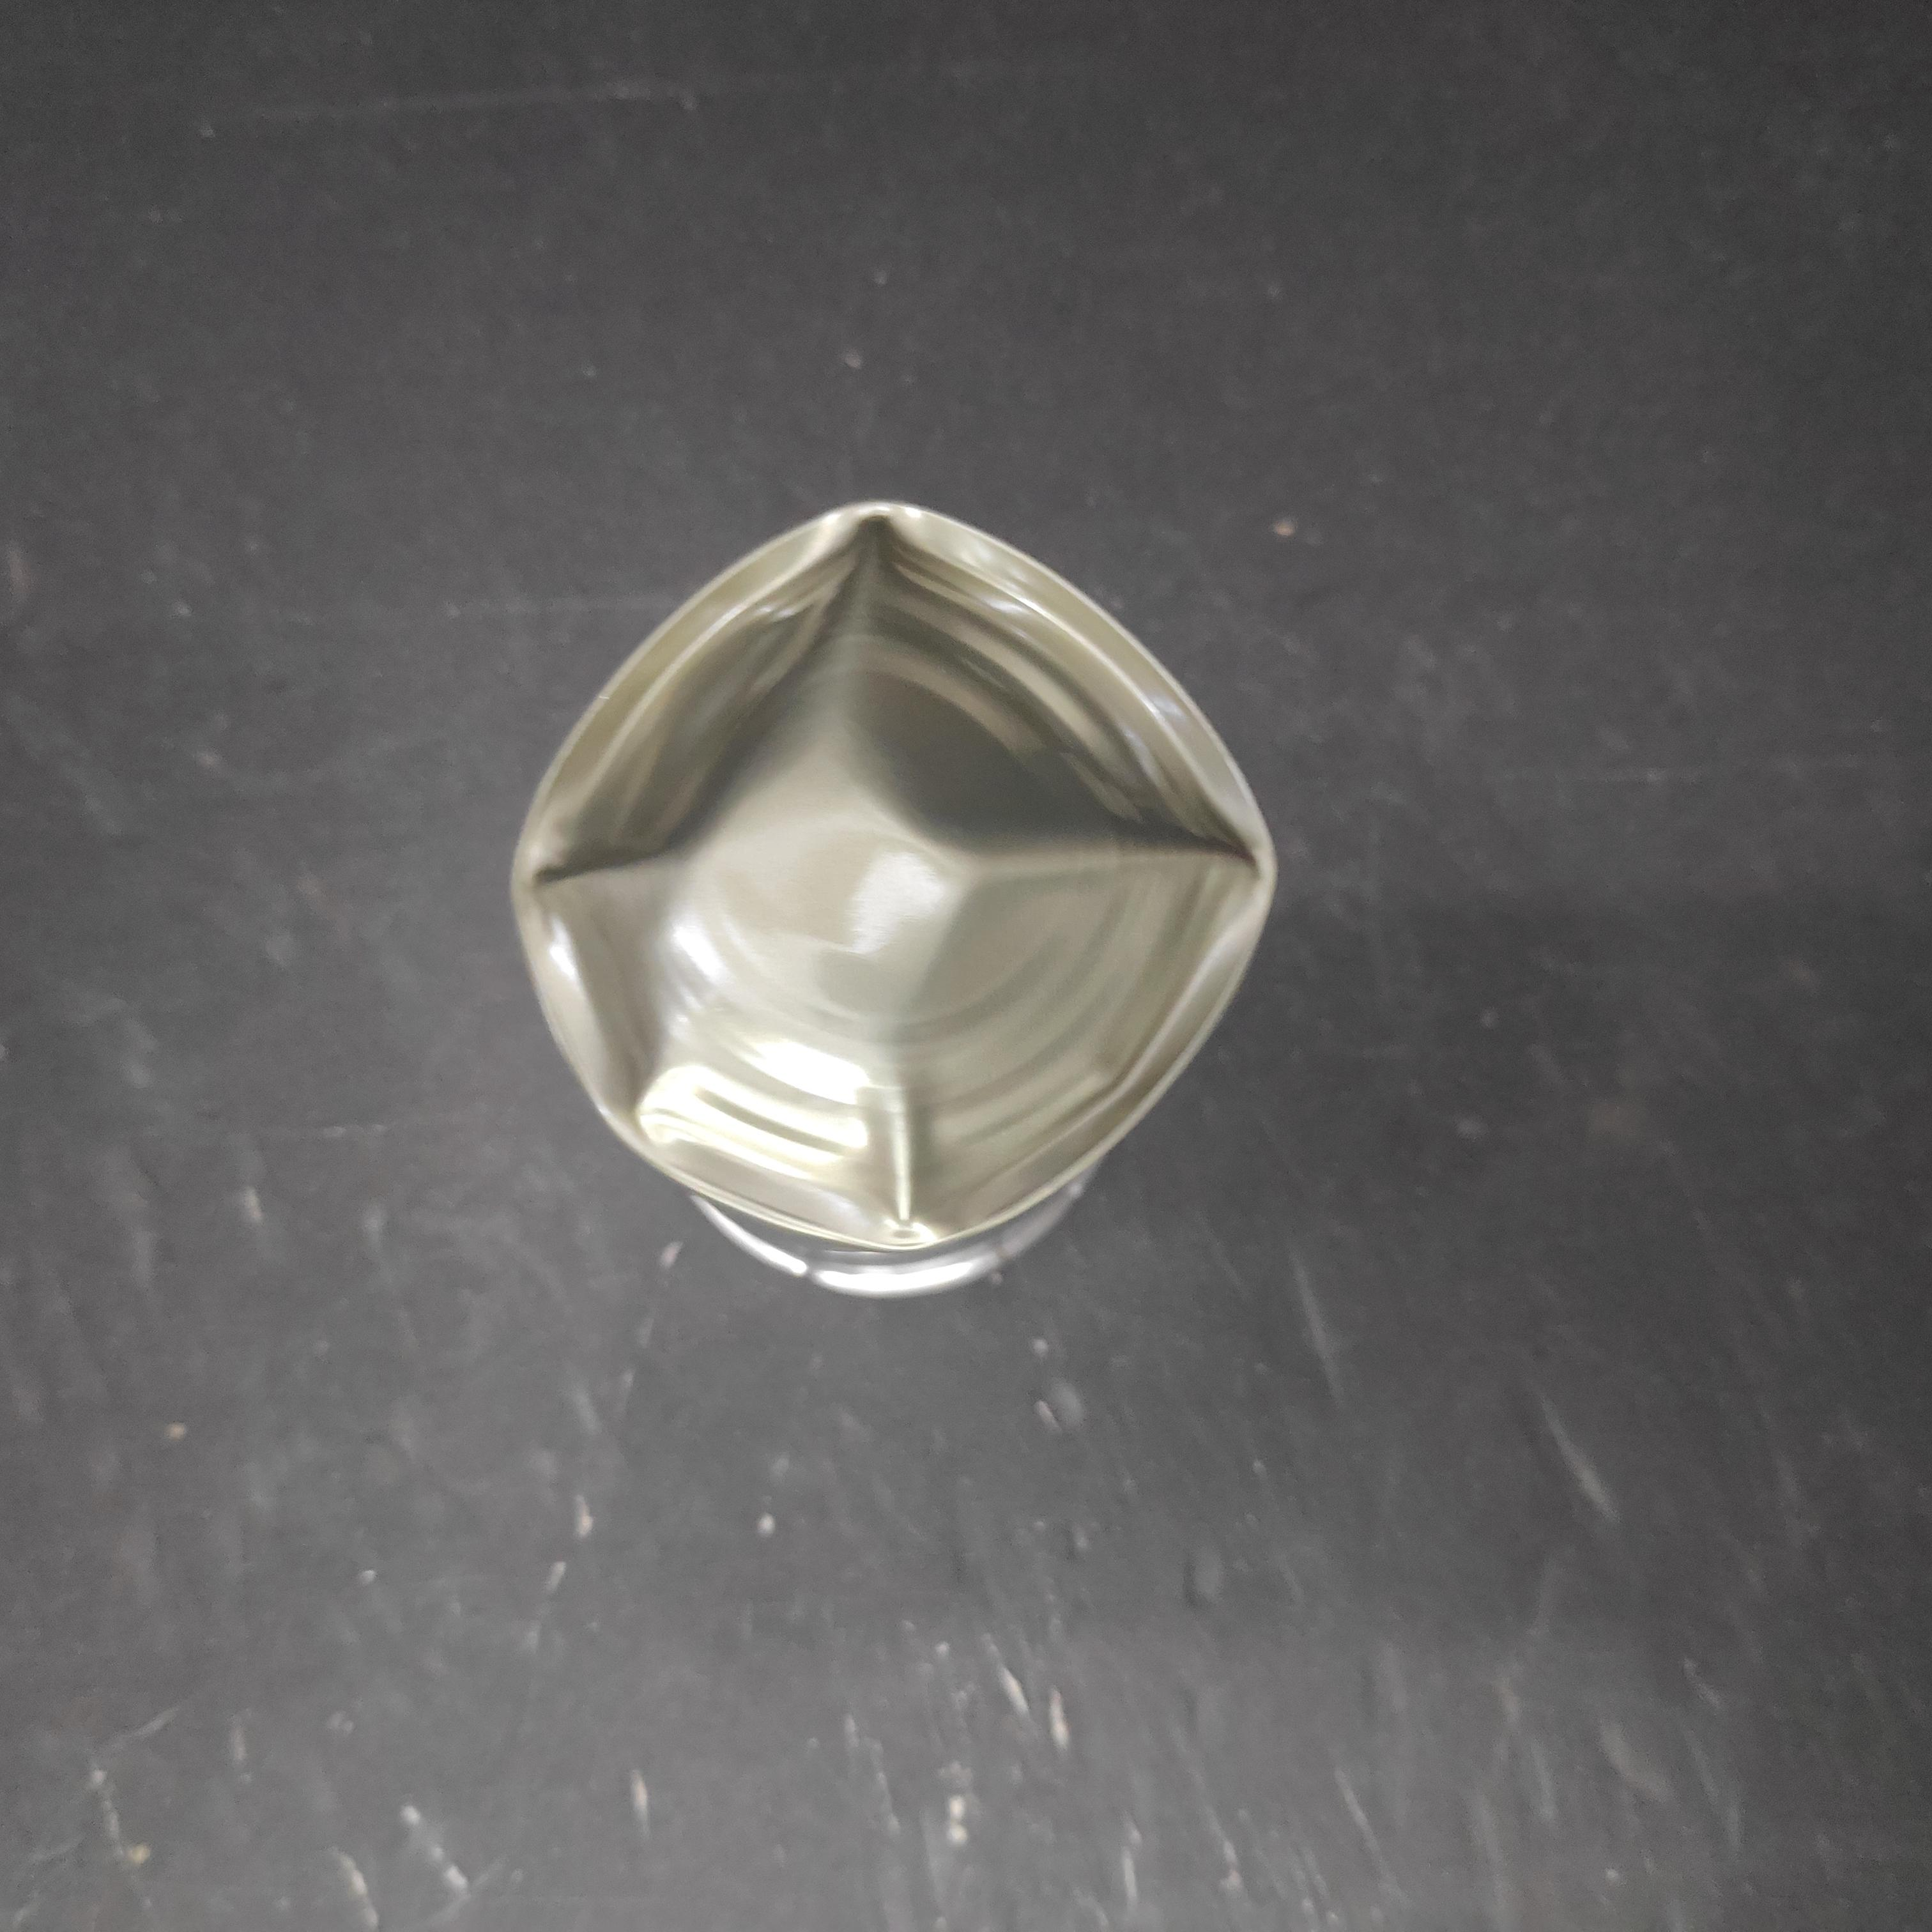Critical Defect: (646, 499, 1447, 1295)
